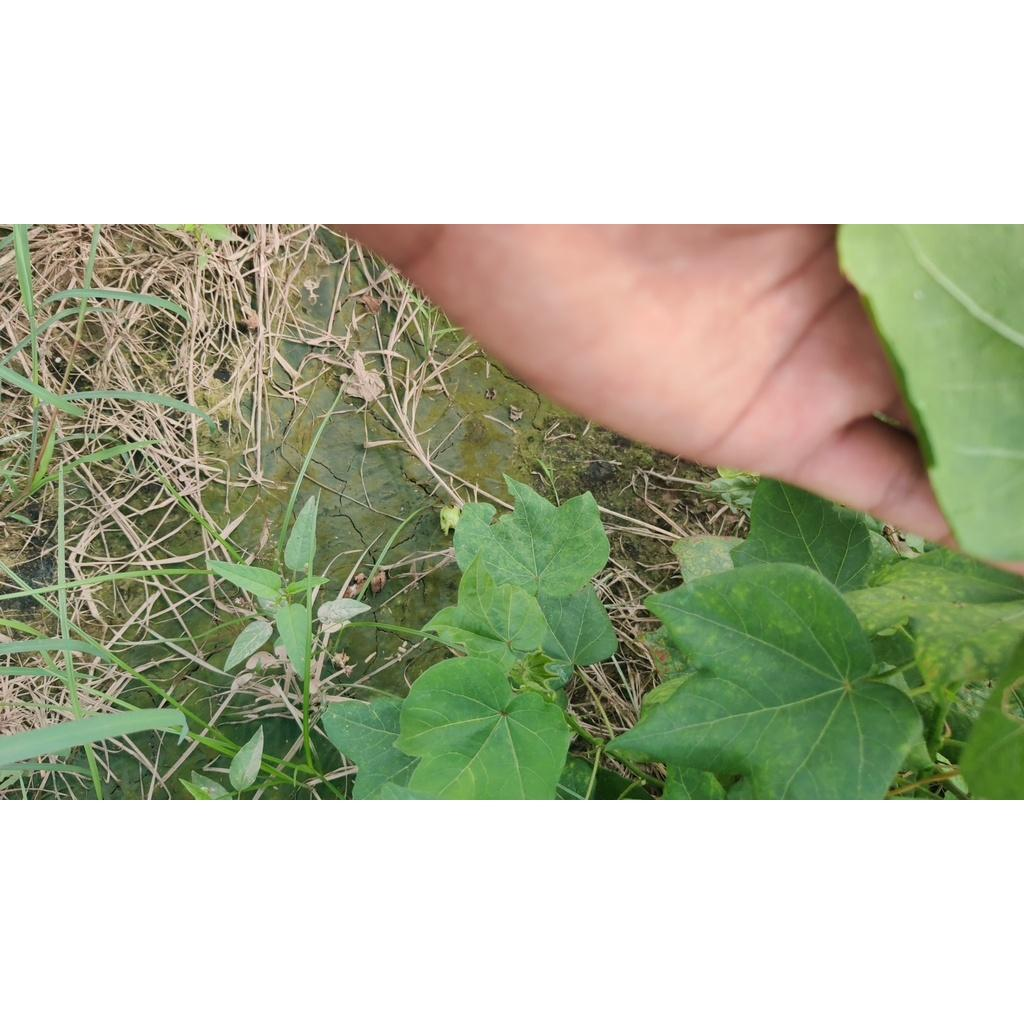adult: (912, 290, 924, 303)
